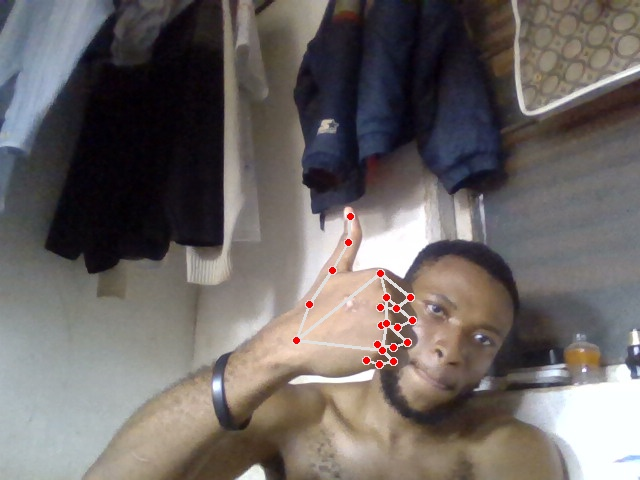thumbsup: (288, 205, 419, 376)
